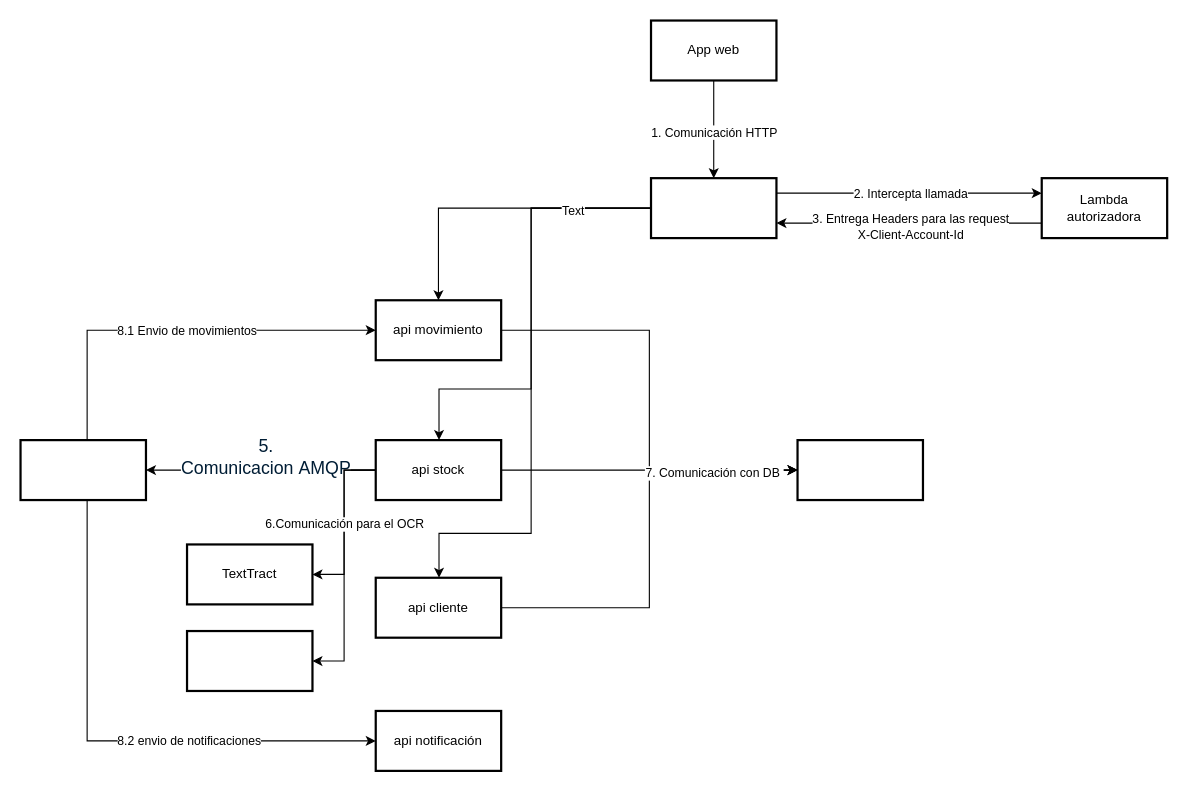
Image size: 1187x790. Some labels were removed from this diagram. The centre of each missing label's shape, as x and y in pixels:
"Api Gateway" belongs at [713,207].
"Bedrock" belongs at [249,660].
"DB" belongs at [860,469].
"RabbitMQ" belongs at [83,469].
